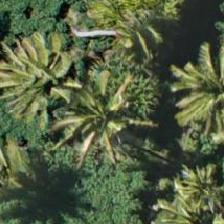coconut_tree: (0, 36, 90, 126), (55, 72, 145, 162), (0, 137, 55, 223)
